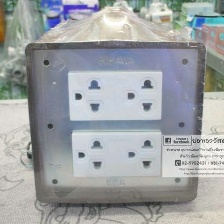three_eye_plug: (18, 35, 202, 209)
